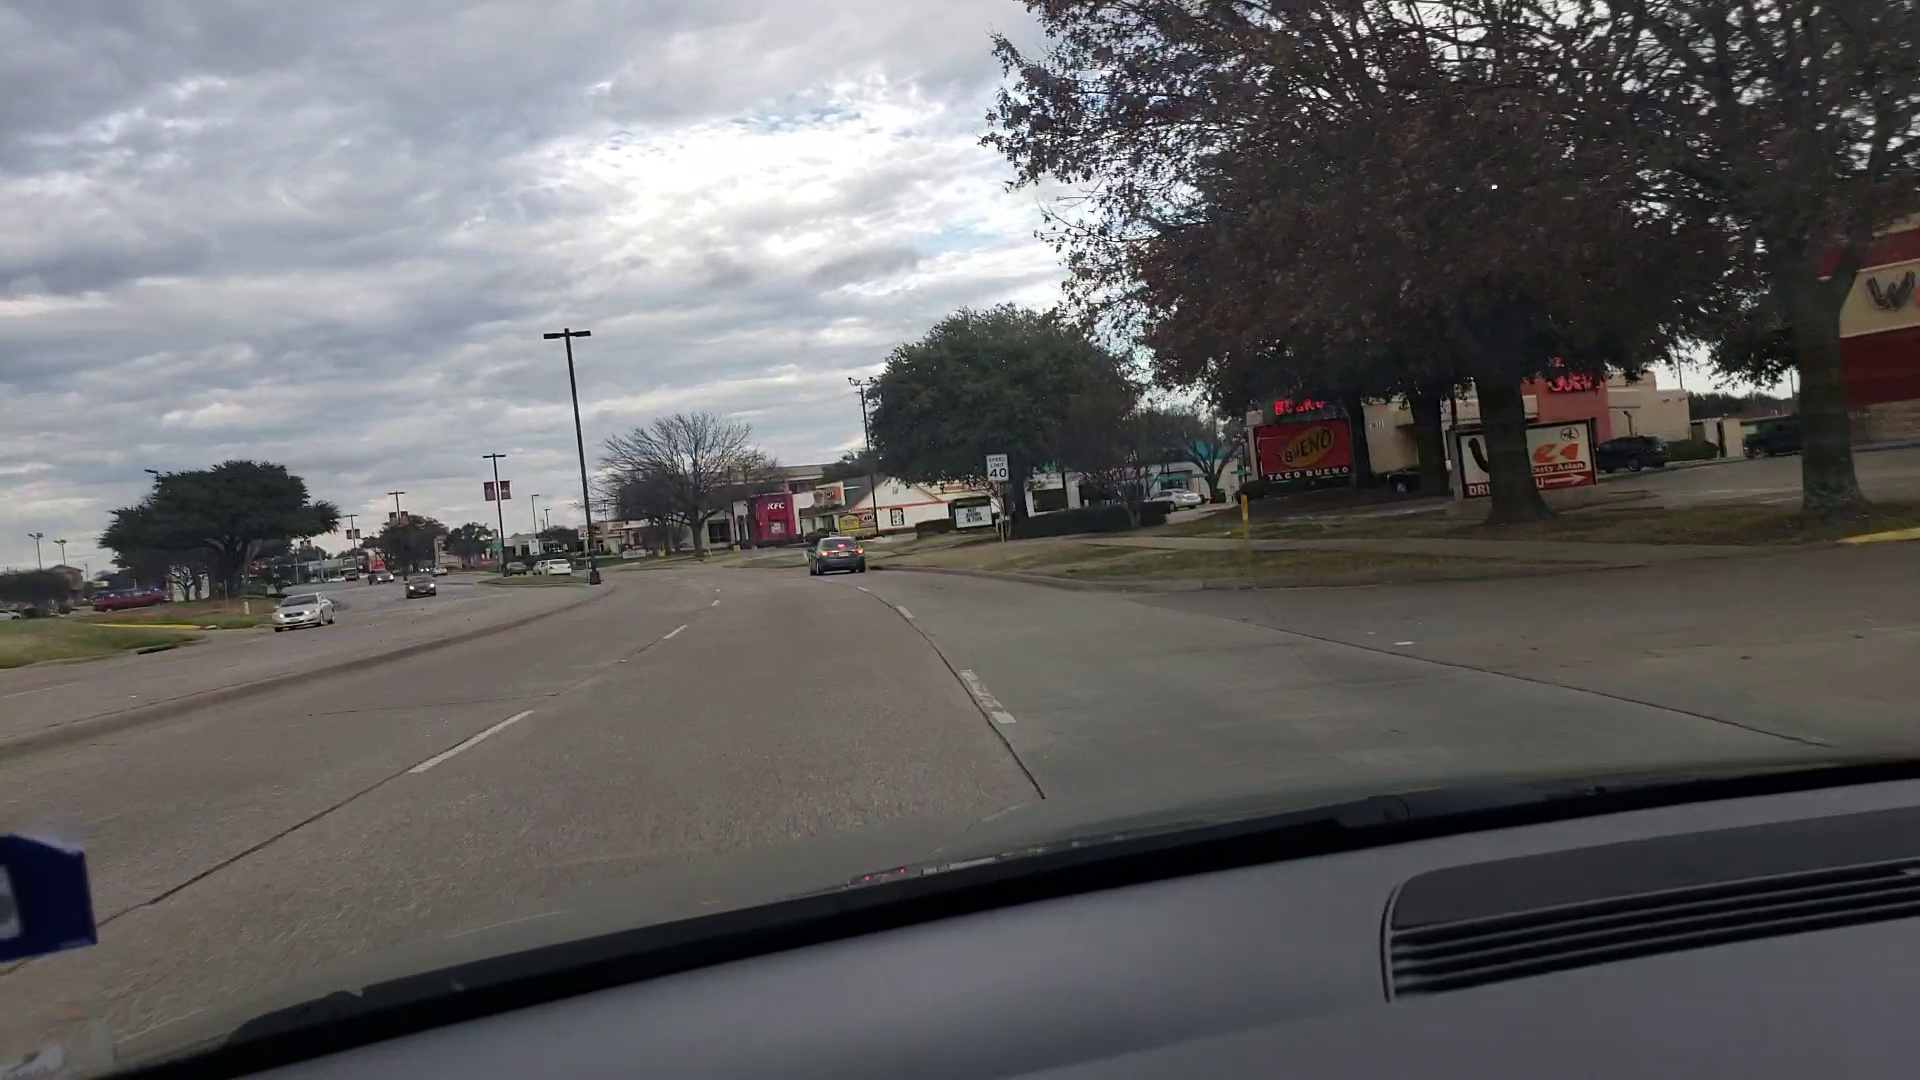car: (1586, 436, 1677, 476), (266, 593, 336, 632), (806, 533, 866, 576), (86, 593, 171, 612), (1146, 485, 1204, 508), (404, 576, 436, 601), (367, 567, 396, 585), (543, 559, 572, 578), (502, 560, 527, 578), (1, 607, 26, 622), (530, 556, 545, 574)
